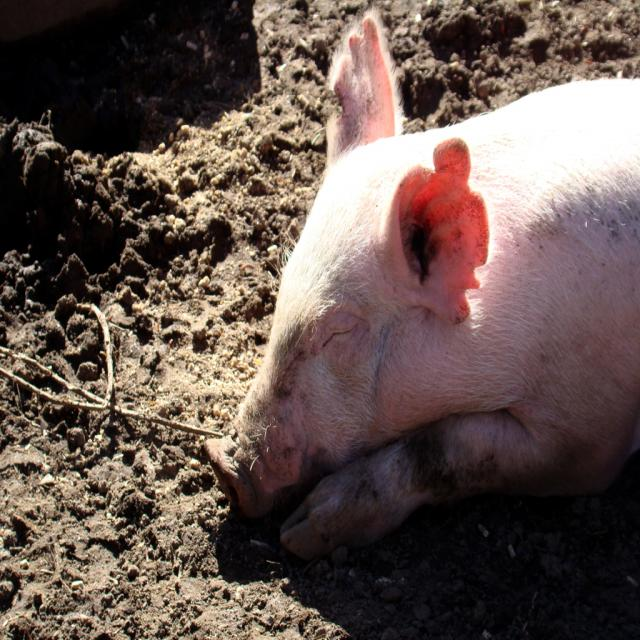Pig: (202, 12, 640, 558)
